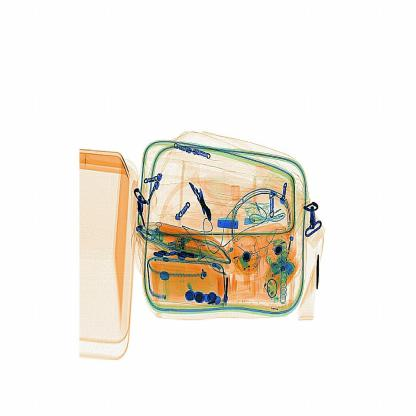wrench: (190, 176, 223, 223)
